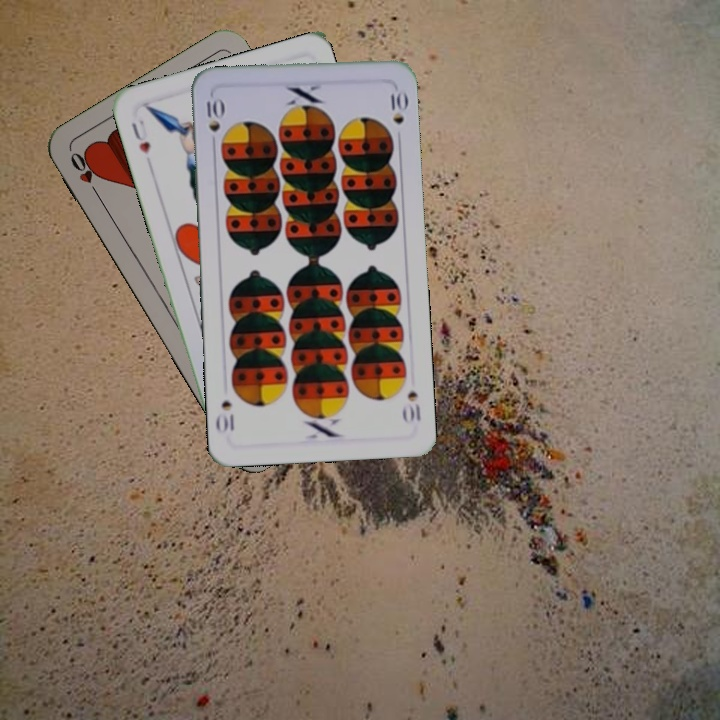HO: (66, 148, 103, 201)
HU: (127, 115, 153, 157)
S10: (399, 387, 424, 426), (203, 93, 225, 134)
